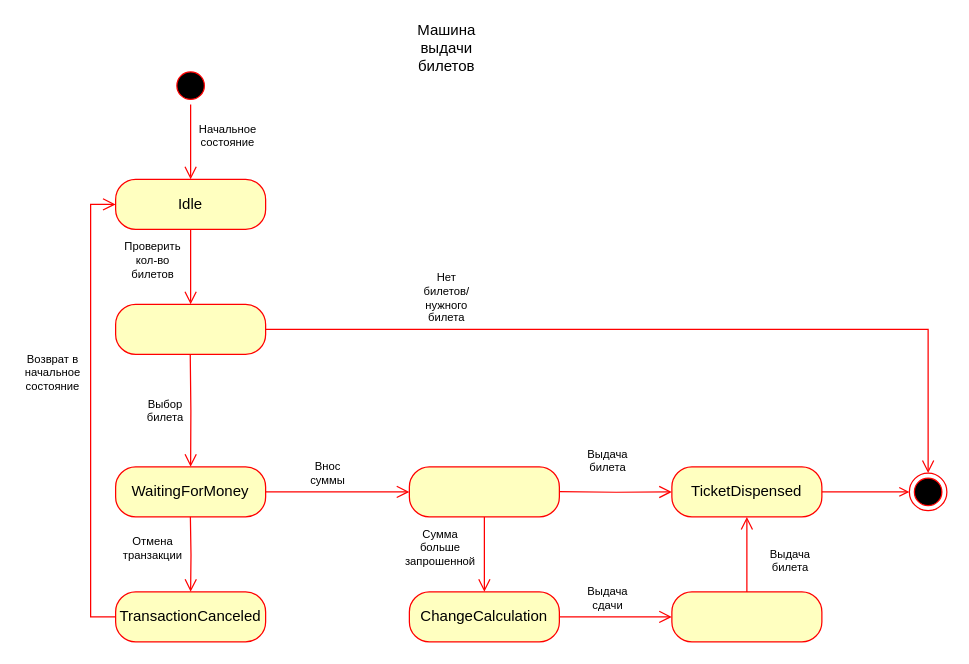
Some shapes in this 969 by 664 pixel diagram are drawn without their labels. The box of each missing label's shape, as (x1, y1, x2, y2) in pixels:
ChangeDispensed: (671, 591, 822, 642)
CheckRemainingTick: (114, 303, 266, 354)
MoneyReceived: (408, 466, 559, 517)
